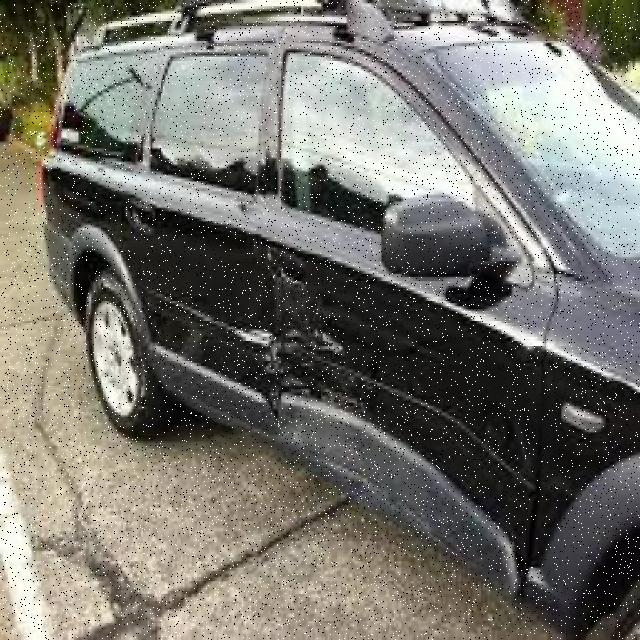damage: (254, 274, 527, 586)
